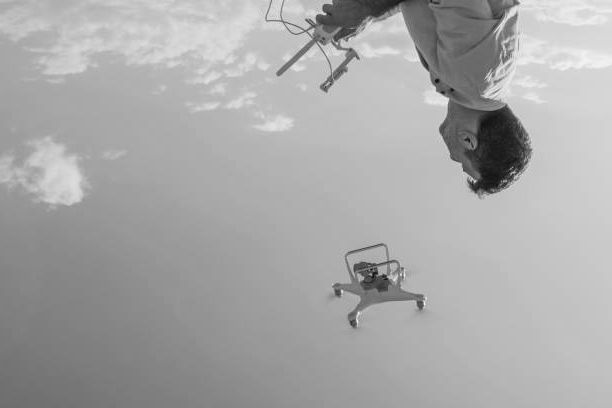Drone: (327, 237, 431, 332)
